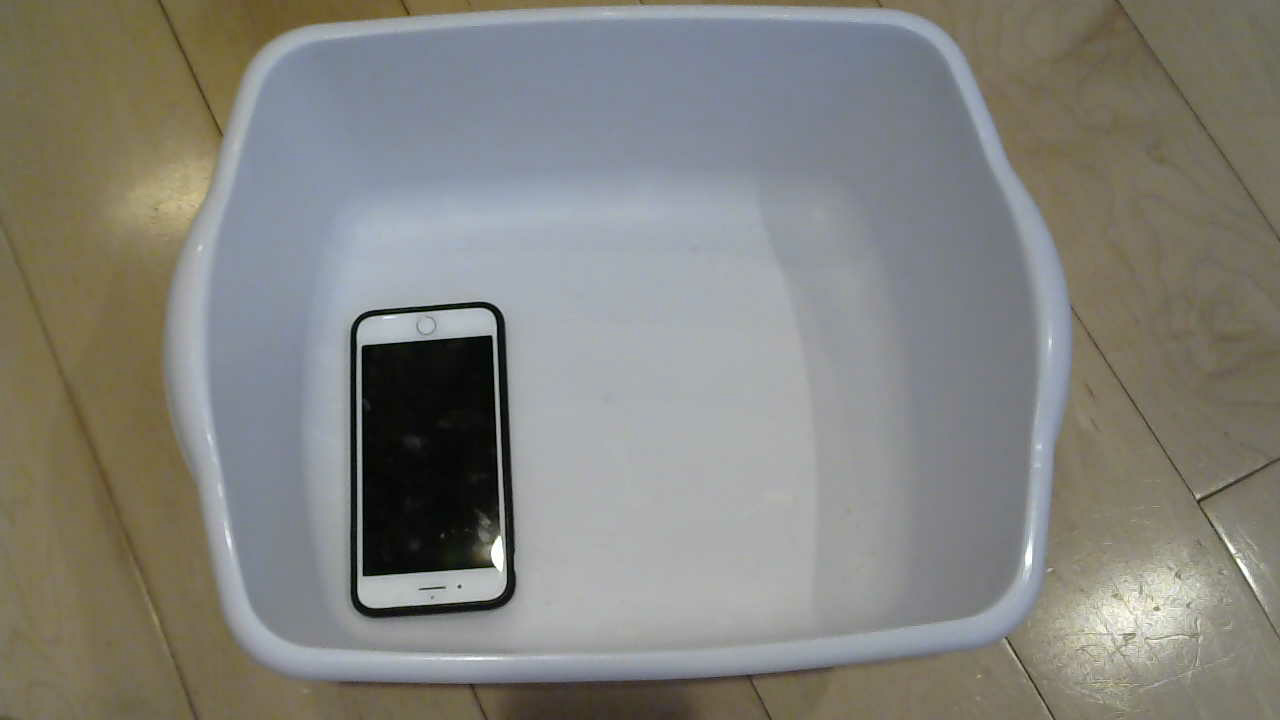phone: (331, 303, 530, 621)
